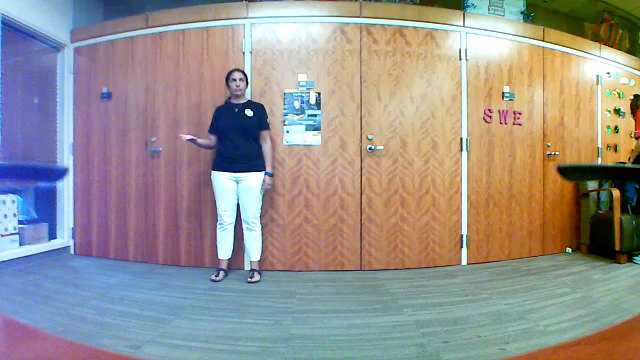land: (173, 132, 205, 149)
